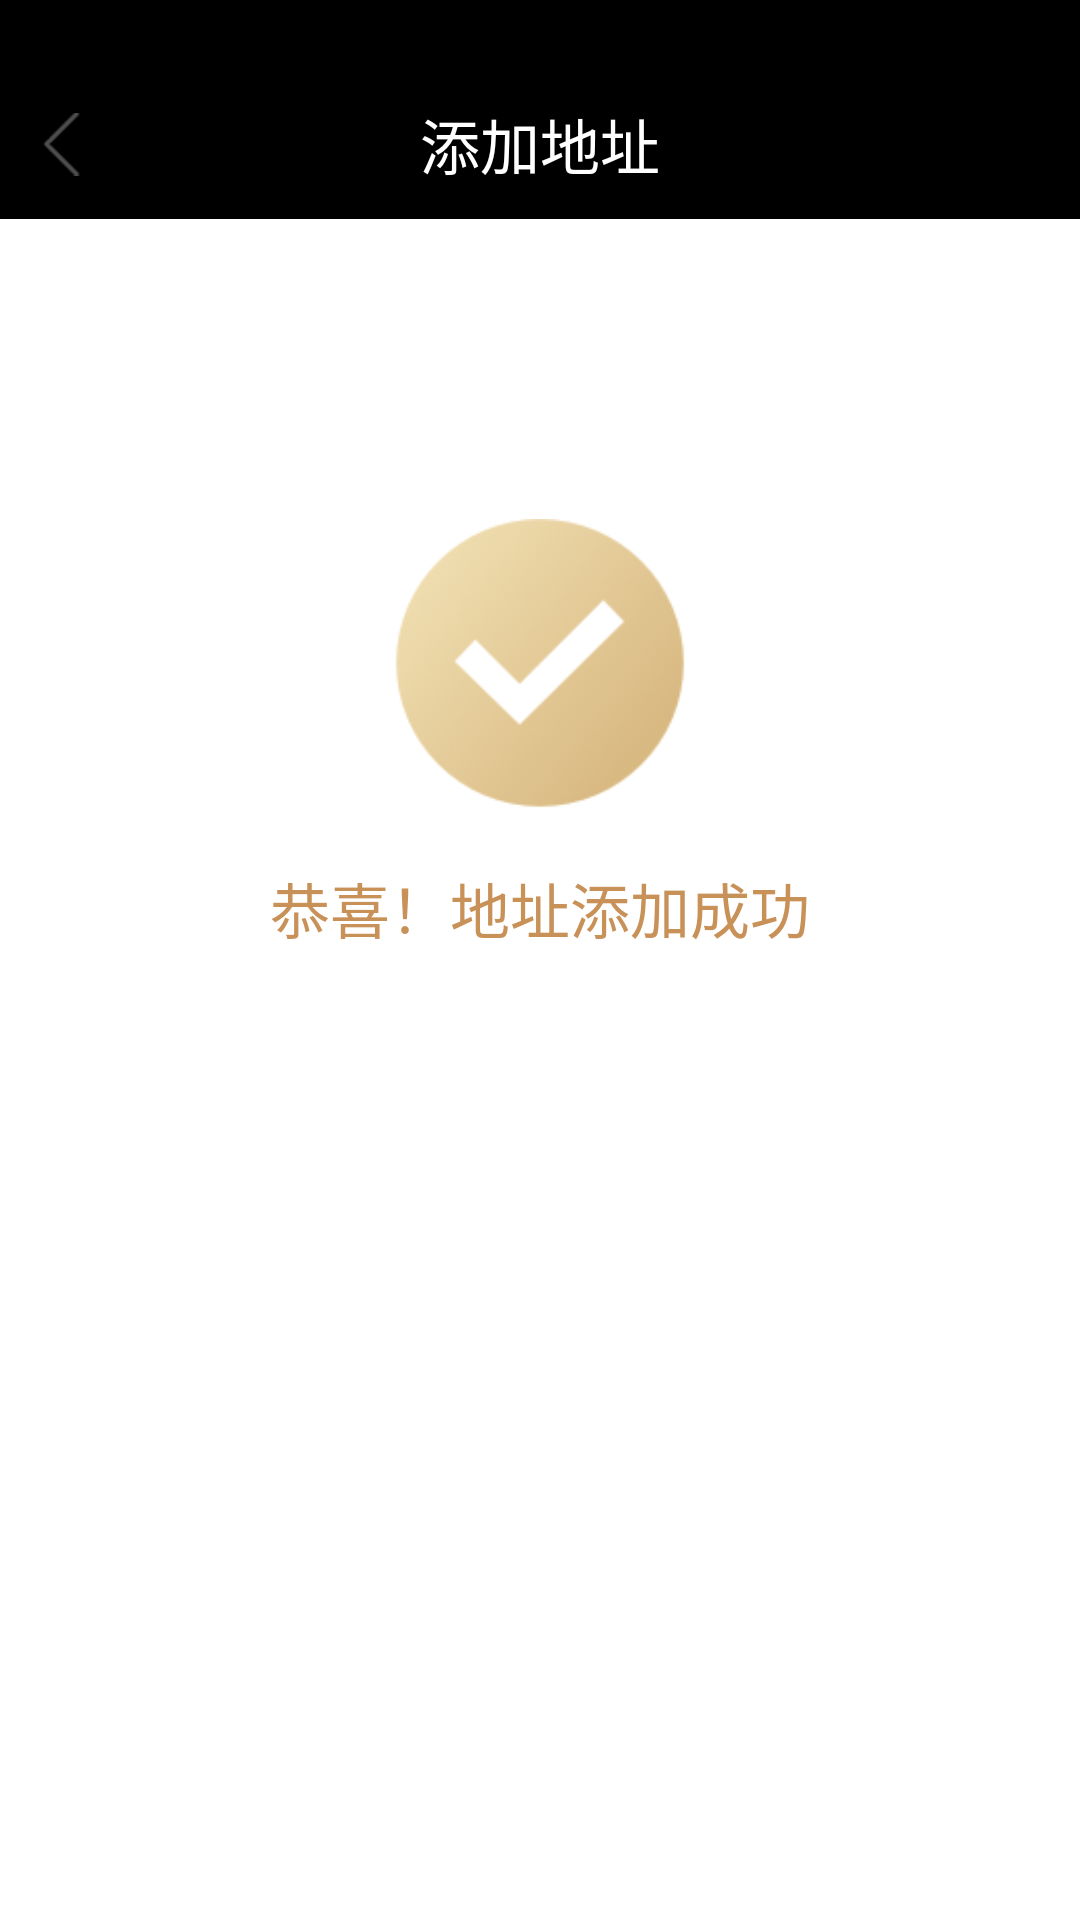

Icons on this 1080 x 1920 Android screen, each with its box as (x1, y1, x2, y2):
back: (44, 113, 79, 176)
